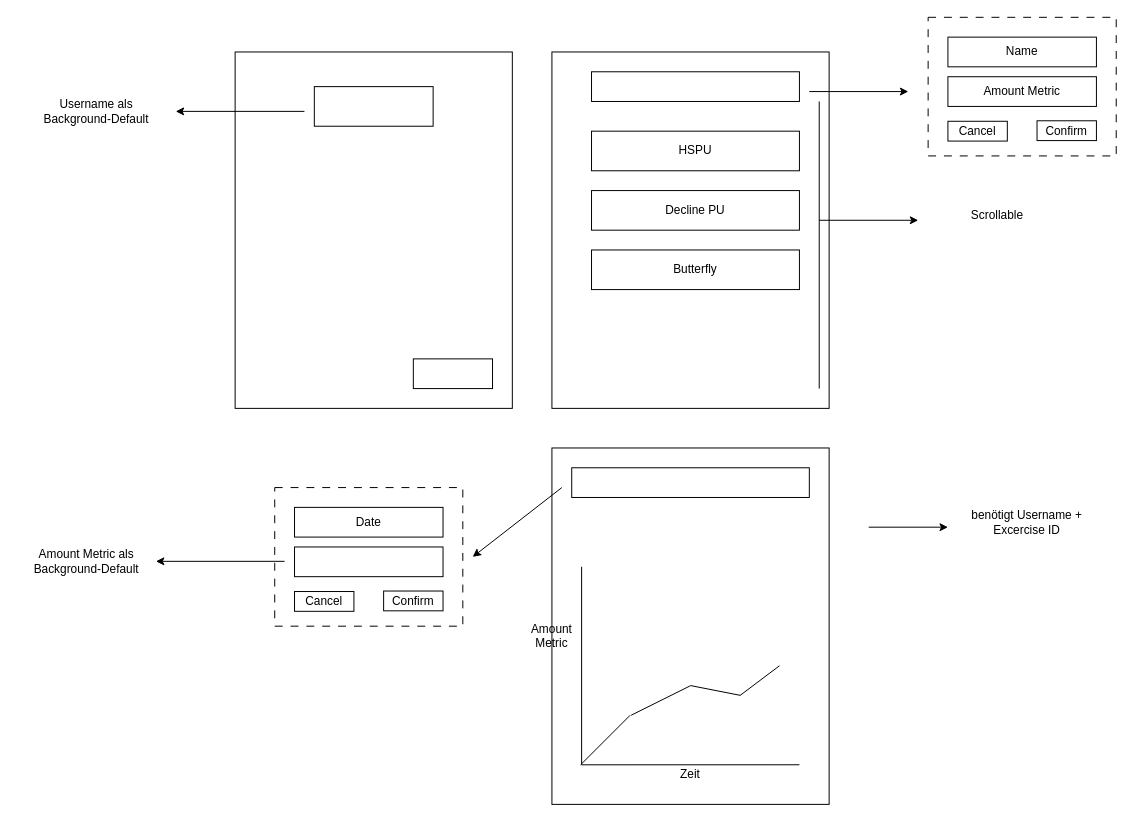
Some shapes in this 1134 by 822 pixel diagram are drawn without their labels. Each missing label, with the centre of its shape:
"add excercise" belongs at point 695,86.
"add record" belongs at point 690,482.
"Amount" belongs at point 368,561.
"Username" belongs at point 373,106.
"Weiter" belongs at point 452,373.
